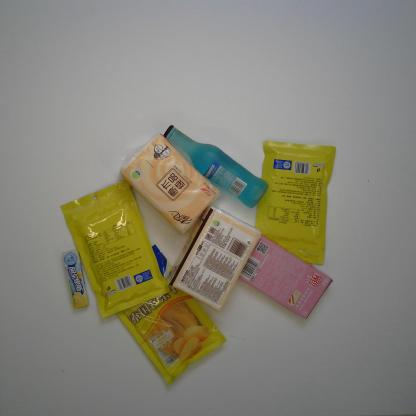Alcohol: (162, 124, 268, 210)
Candy: (62, 249, 89, 310)
Dessert: (238, 233, 333, 320)
Dried Fruit: (116, 243, 228, 386), (60, 180, 172, 319), (254, 140, 338, 266)
Tissue: (119, 132, 223, 235), (166, 205, 262, 313)
